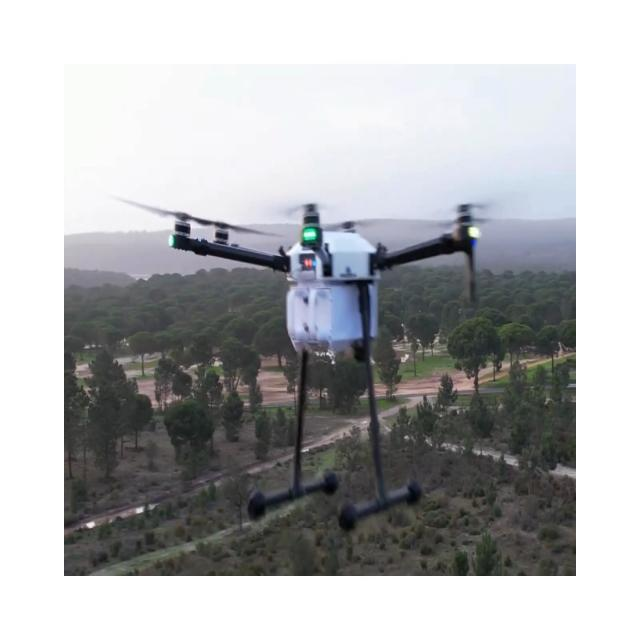drone: (109, 193, 491, 532)
